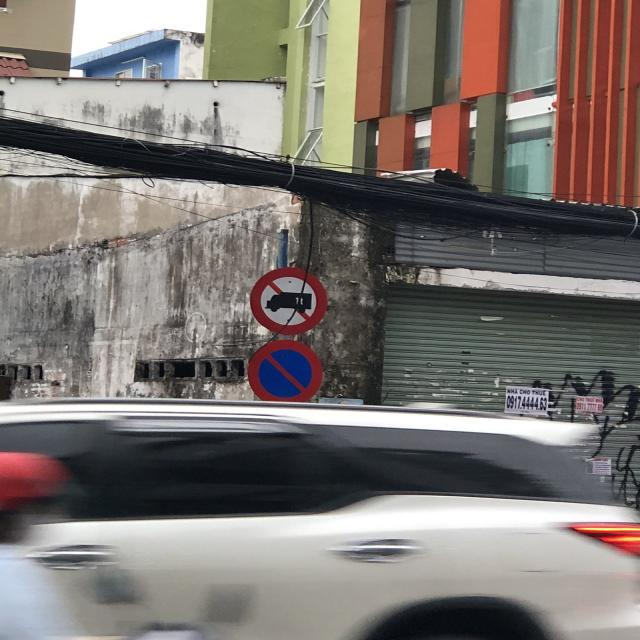Bien bao cam do xe: (242, 334, 328, 403)
Bien bao cam xe oto tai: (247, 264, 327, 334)
